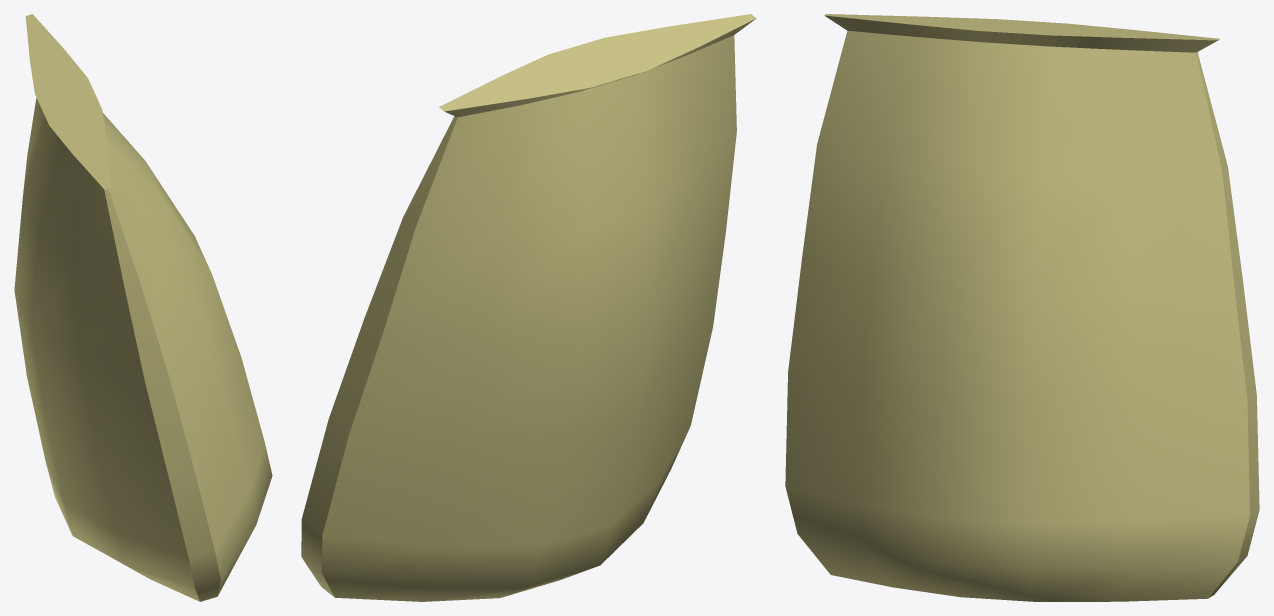
The model's file is sack.fbx.
The picture shows the model from 3 angles, left to right: view 1: azimuth 30°, elevation 25°; view 2: azimuth 150°, elevation 25°; view 3: azimuth 270°, elevation 25°; orthographic projection. The views are drawn at different scales.
Parts seen in each view (by area): view 1: pCube34; view 2: pCube34; view 3: pCube34.
Part boxes in pixels (<box>): pCube34: <box>14,14,272,601</box>; pCube34: <box>301,14,756,601</box>; pCube34: <box>785,14,1259,601</box>.
Bounding box in the file's own units: 61.13 × 114 × 92.01.
